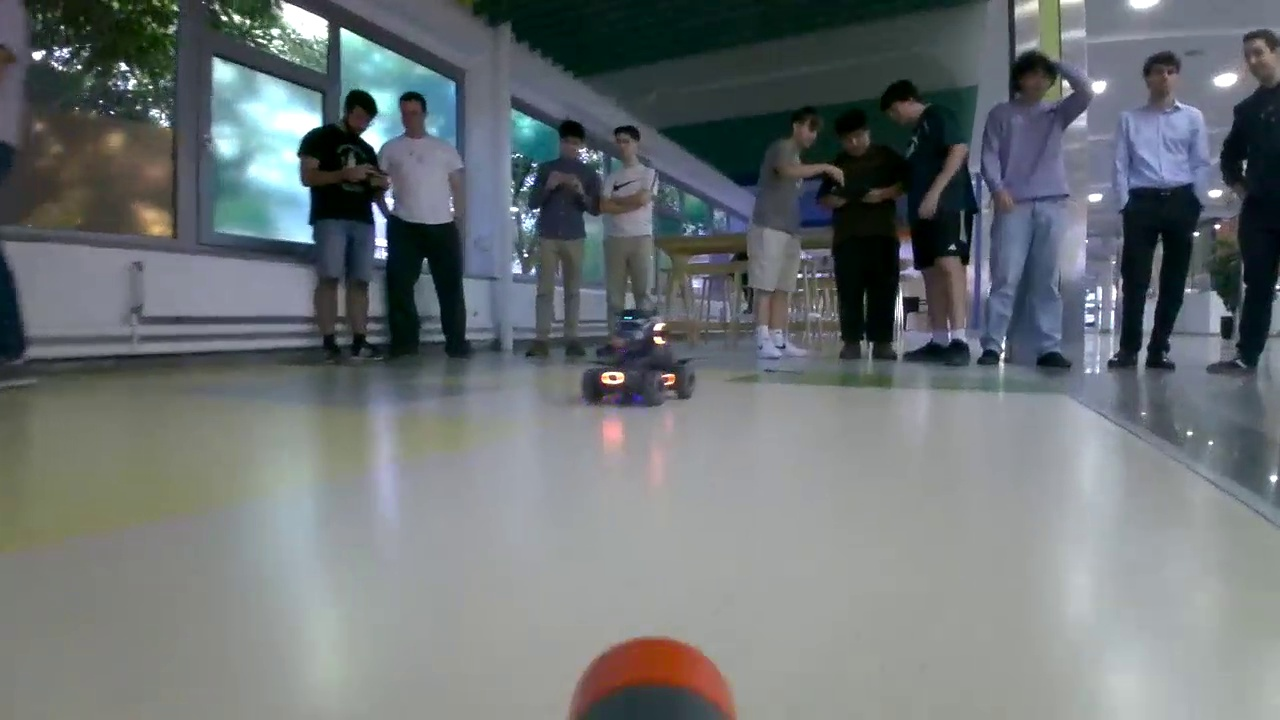robot: (578, 310, 694, 404)
